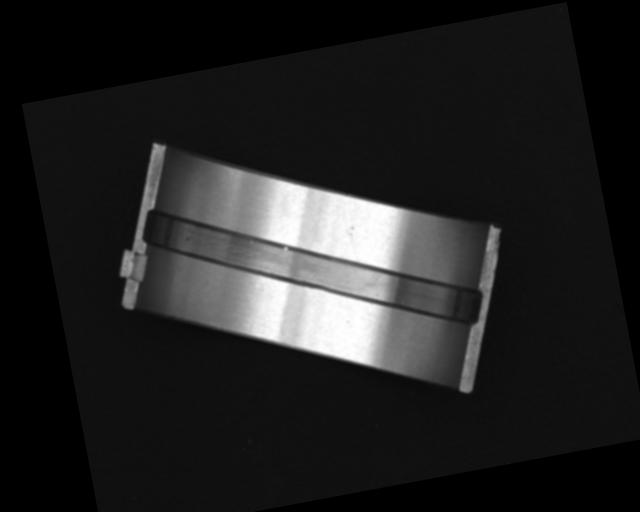gap: (138, 154, 488, 382)
